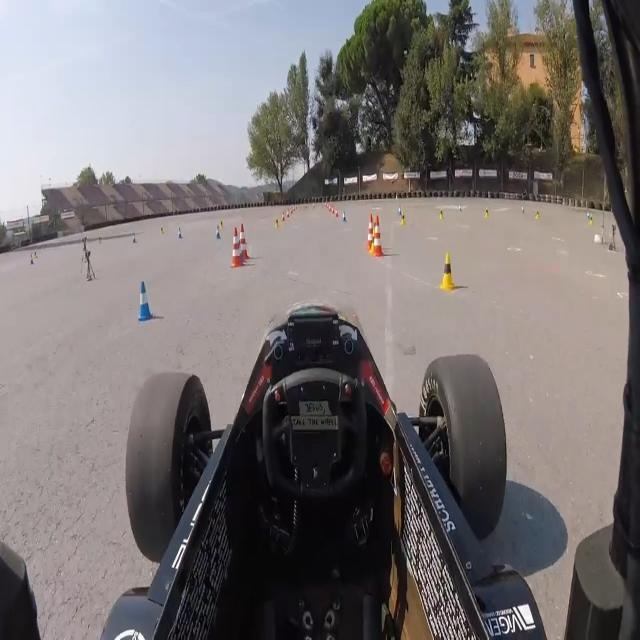blue_cone: (138, 280, 152, 321)
large_orange_cone: (370, 214, 384, 257), (231, 226, 244, 269), (237, 222, 249, 262), (366, 212, 377, 250)
yellow_cone: (440, 251, 456, 291)
